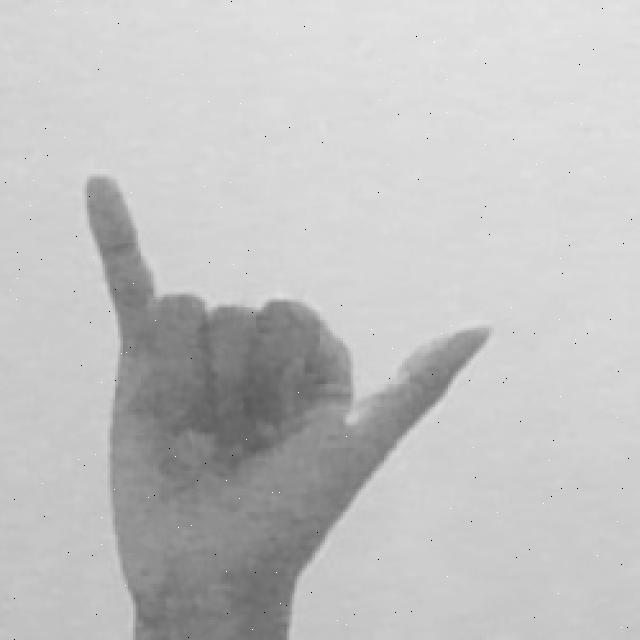Y: (78, 166, 498, 640)
